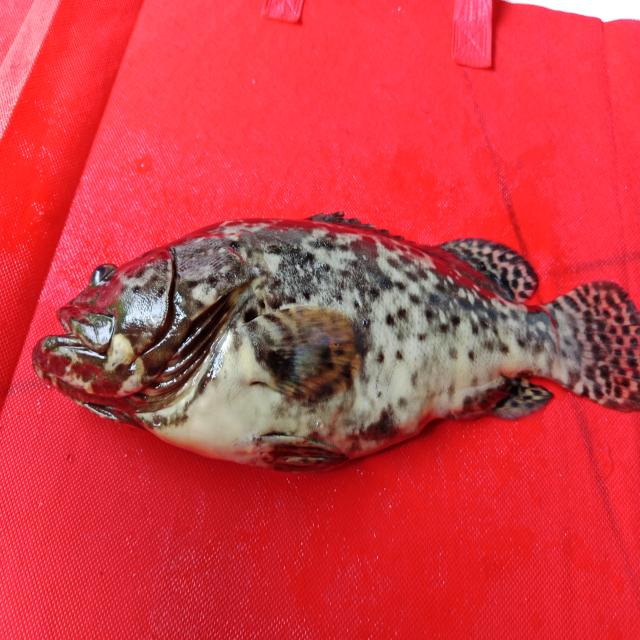ikan: (26, 181, 634, 481)
